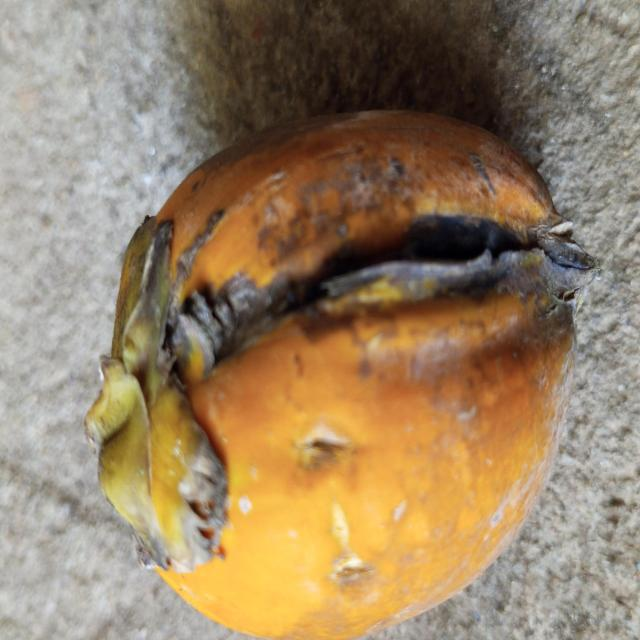damaged: (85, 111, 596, 638)
